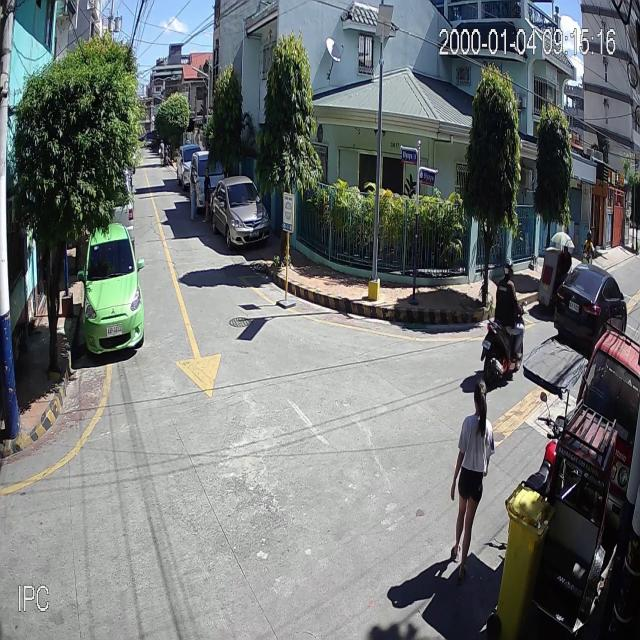standing: (188, 166, 201, 221), (202, 166, 213, 223), (158, 139, 166, 165)
walking: (450, 377, 496, 589)
